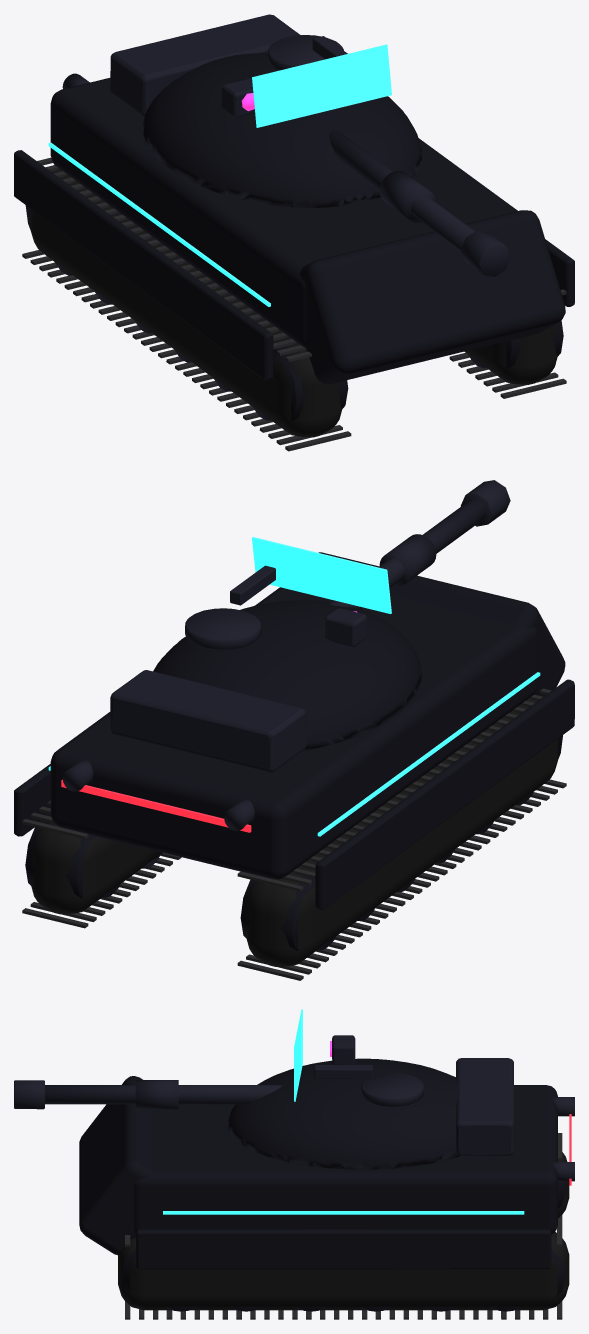
File: kampvogn_neon.glb
3 renders of one model, top to bottom at view 1: azimuth 30°, elevation 25°; view 2: azimuth 150°, elevation 25°; view 3: azimuth 270°, elevation 25°, orthographic. The views are drawn at different scales.
Parts seen in each view (by area): view 1: krop_net; view 2: krop_net; view 3: krop_net.
Boxes of the visible parts, box(x1,y1,x2,y2) form: krop_net: box(14, 14, 574, 451); krop_net: box(14, 480, 574, 980); krop_net: box(14, 1009, 574, 1319).
Bounding box in the file's own units: 1.17 × 0.9994 × 2.23.
